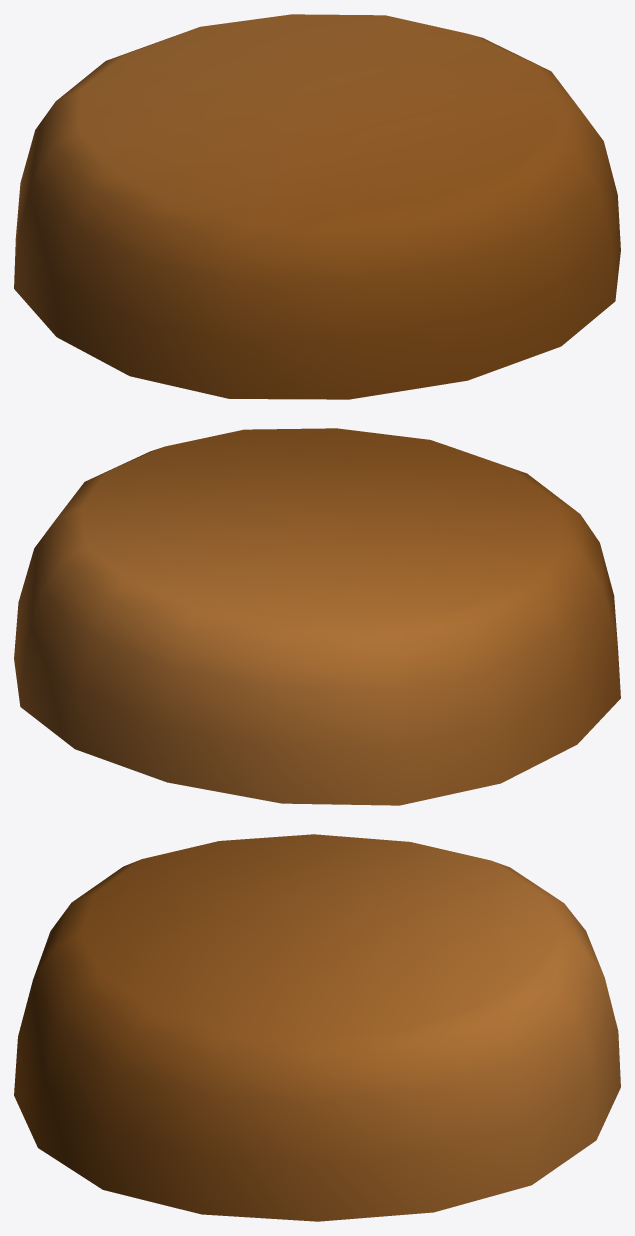
Rendered from Bread_2 Small Half_1.fbx.
3 views of the same model, one above another, from view 1: azimuth 30°, elevation 25°; view 2: azimuth 150°, elevation 25°; view 3: azimuth 270°, elevation 25° (orthographic). The views are drawn at different scales.
Visible parts, largest first — view 1: Bread_2 Small Half_1; view 2: Bread_2 Small Half_1; view 3: Bread_2 Small Half_1.
Boxes of the visible parts, <box> form: Bread_2 Small Half_1: <box>14,14,620,399</box>; Bread_2 Small Half_1: <box>14,428,620,805</box>; Bread_2 Small Half_1: <box>14,834,620,1221</box>.
Size of the model in its own units: 0.1149 by 0.0334 by 0.1125.
Materials: 1 (1 with a texture image).
